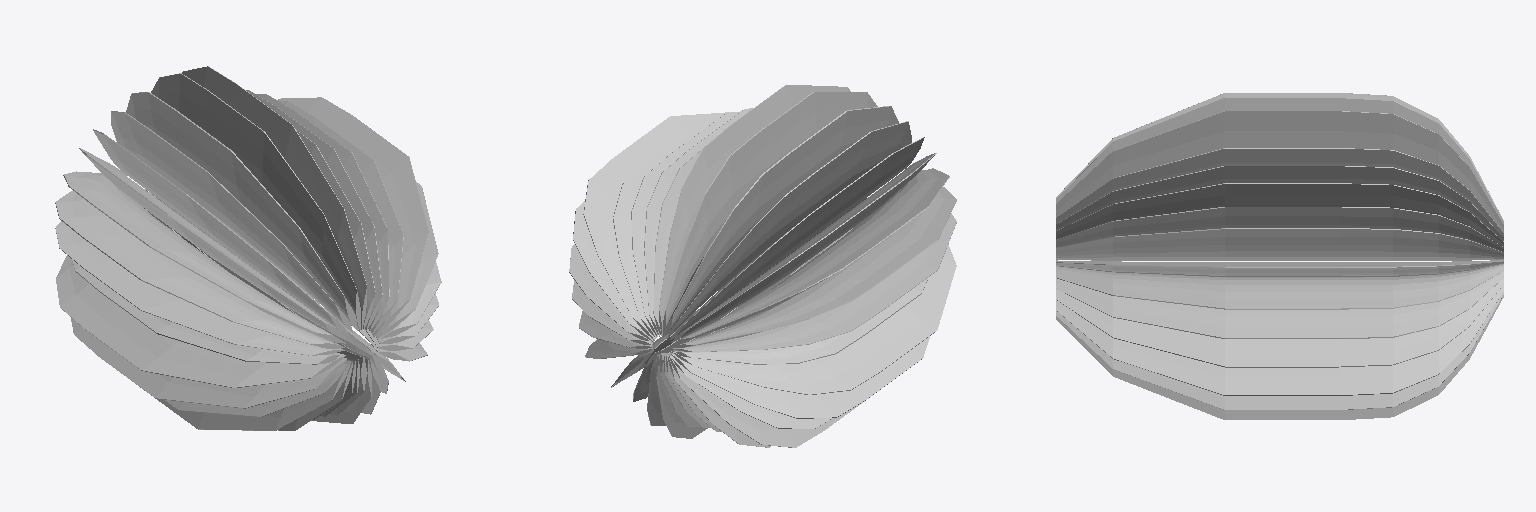
Rendered from kiwi_inner.obj.
3 views of the same model, side by side, from view 1: azimuth 30°, elevation 25°; view 2: azimuth 150°, elevation 25°; view 3: azimuth 270°, elevation 25° (orthographic).
Parts seen in each view (by area): view 1: Cube.002; view 2: Cube.002; view 3: Cube.002.
Part boxes in pixels (left/top/right/bottom): Cube.002: left=55, top=66, right=441, bottom=430; Cube.002: left=569, top=85, right=956, bottom=447; Cube.002: left=1056, top=93, right=1503, bottom=419.
Size of the model in its own units: 1.9 by 1.9 by 2.59.